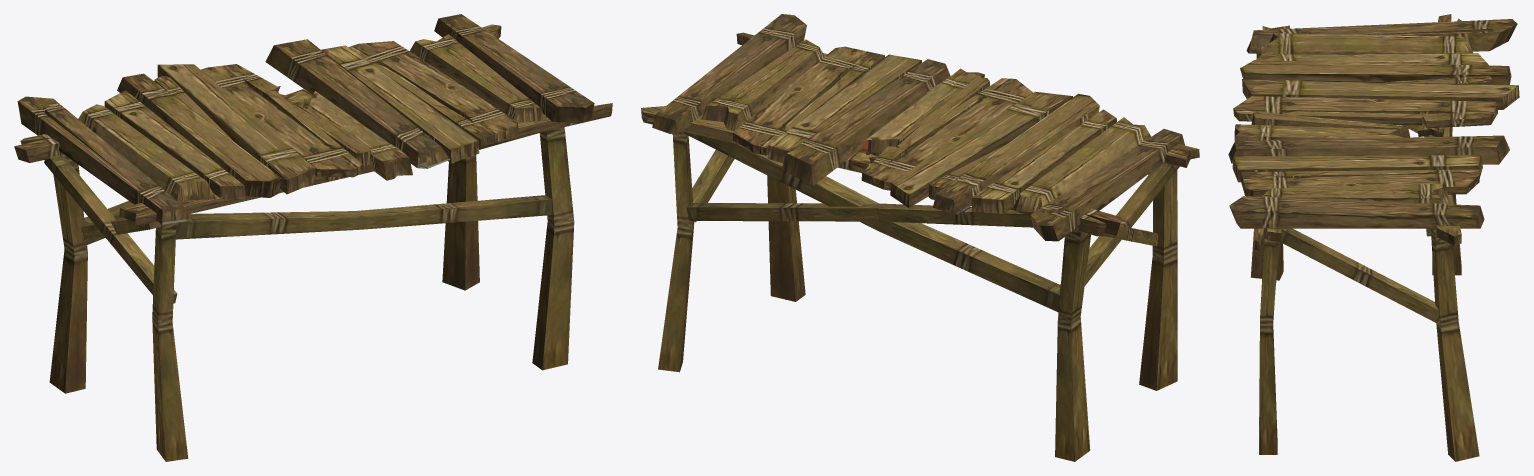
File: CO_A_TreeBridge02.FBX
3 views of the same model, side by side, from view 1: azimuth 30°, elevation 25°; view 2: azimuth 150°, elevation 25°; view 3: azimuth 270°, elevation 25° (orthographic). The views are drawn at different scales.
Parts seen in each view (by area): view 1: CO_A_TreeBridge02; view 2: CO_A_TreeBridge02; view 3: CO_A_TreeBridge02.
Boxes of the visible parts, x1,y1,x2,y2 form: CO_A_TreeBridge02: (14,14,612,461); CO_A_TreeBridge02: (641,14,1199,461); CO_A_TreeBridge02: (1228,14,1519,461).
Size of the model in its own units: 394 by 204 by 215.
